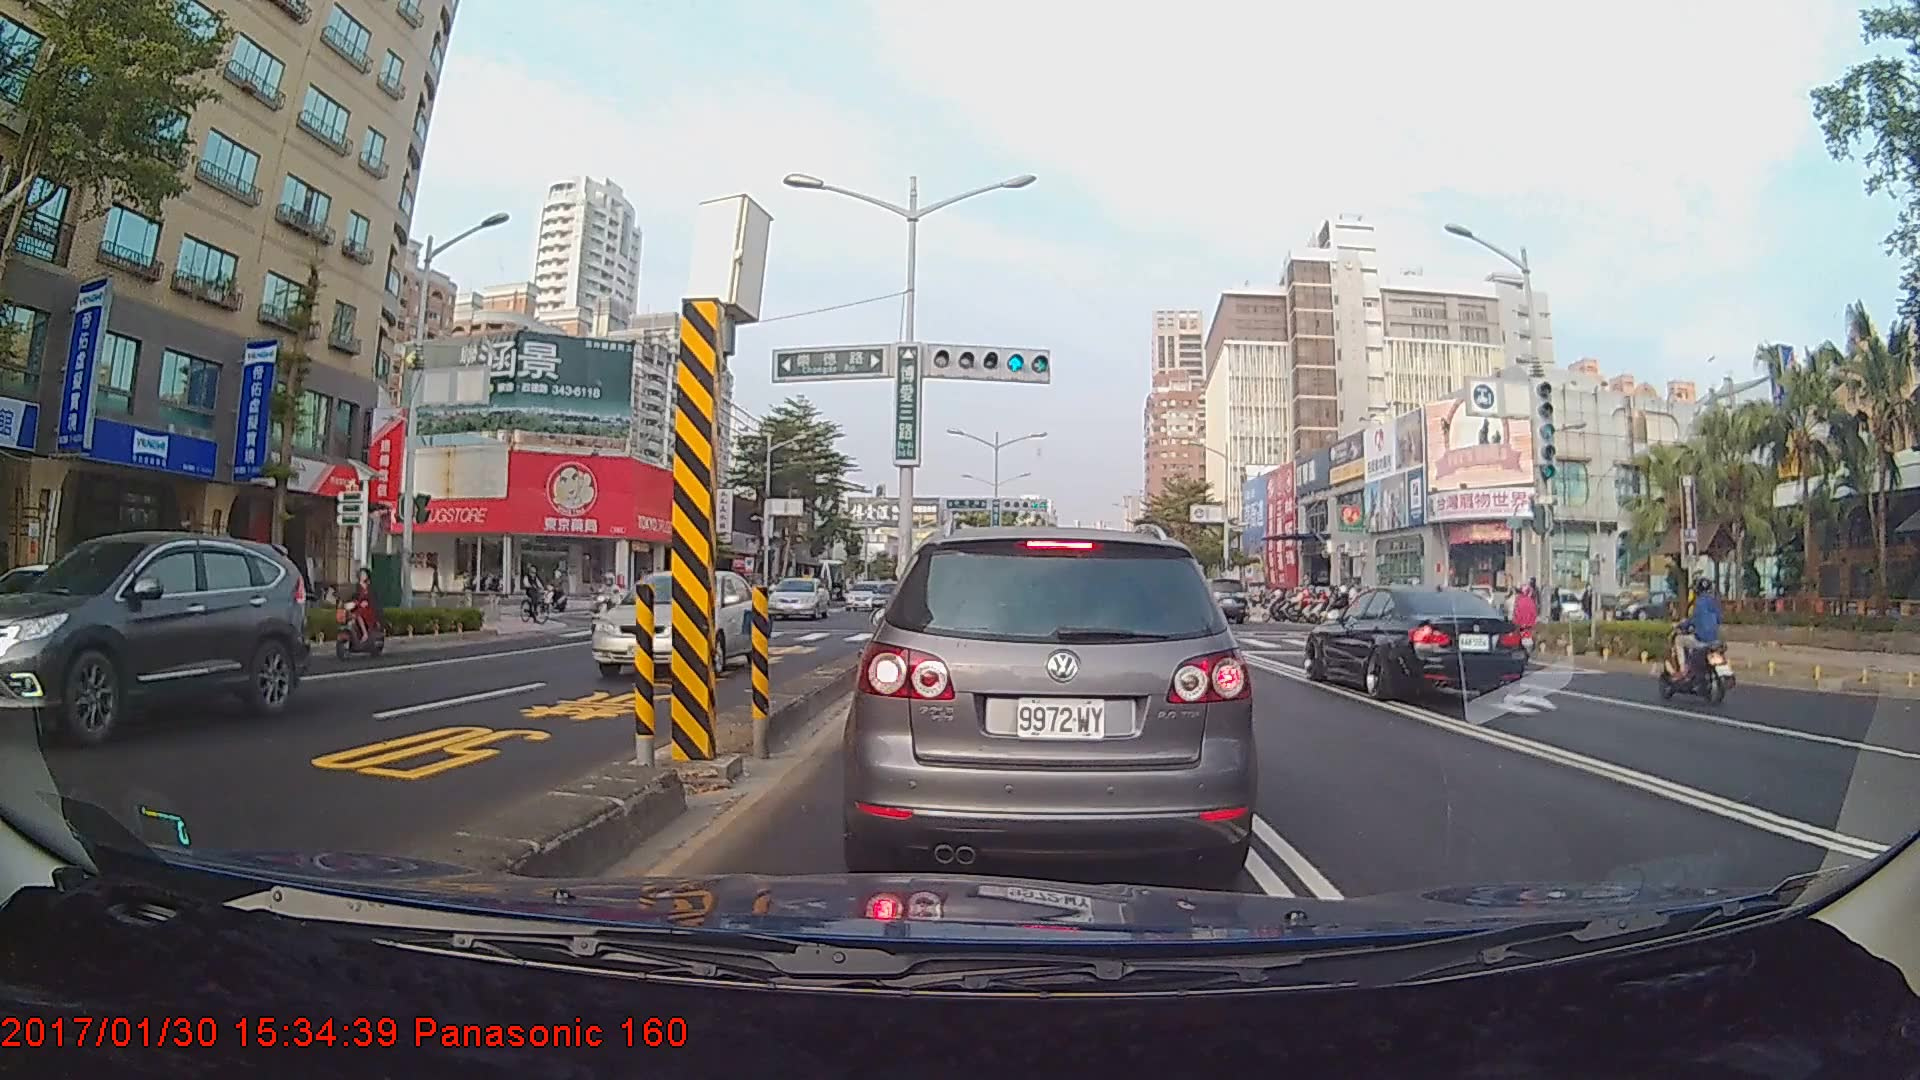rider: (1659, 575, 1743, 708), (323, 562, 393, 661), (518, 559, 561, 629), (594, 572, 626, 640), (540, 569, 573, 615)
vehicle: (854, 525, 1245, 880), (0, 529, 310, 745), (1301, 581, 1525, 702), (589, 569, 764, 680), (767, 575, 830, 620), (1201, 575, 1246, 625)
